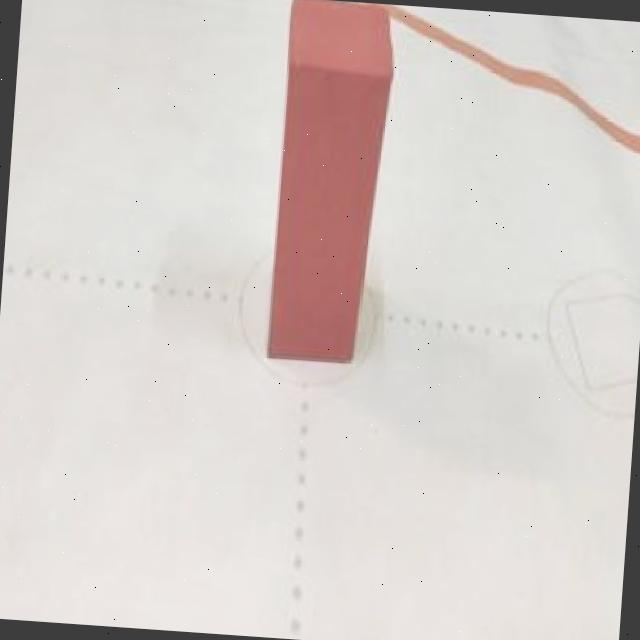redbox: (264, 0, 395, 364)
